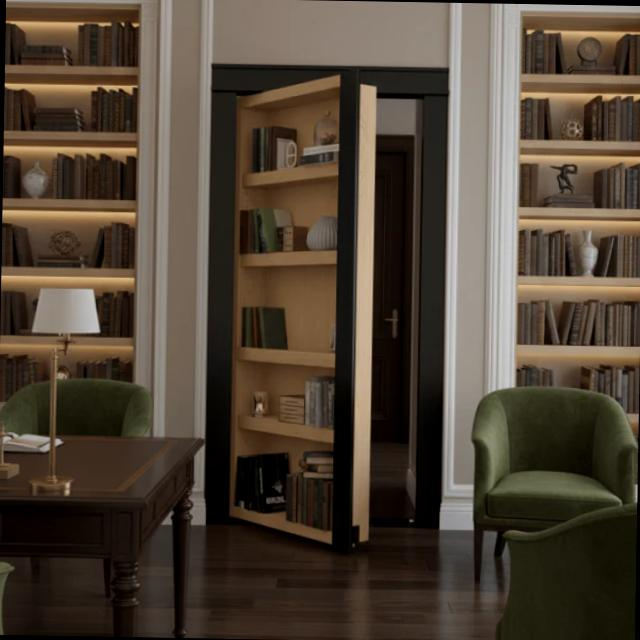door: (205, 60, 450, 550)
